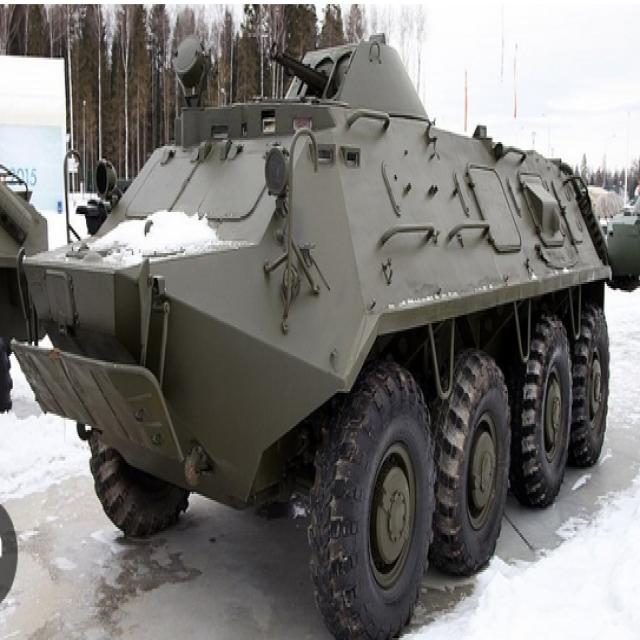MIL_APC: (35, 4, 624, 626)
